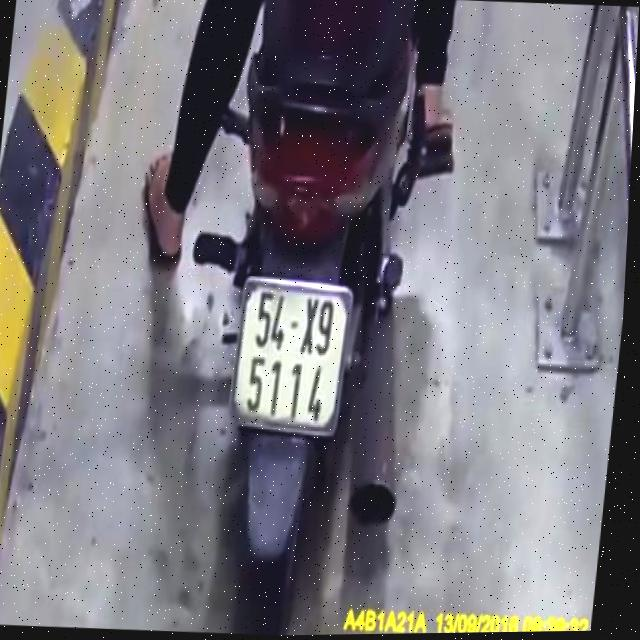motorcycle: (159, 0, 466, 637)
plate: (223, 272, 360, 443)
